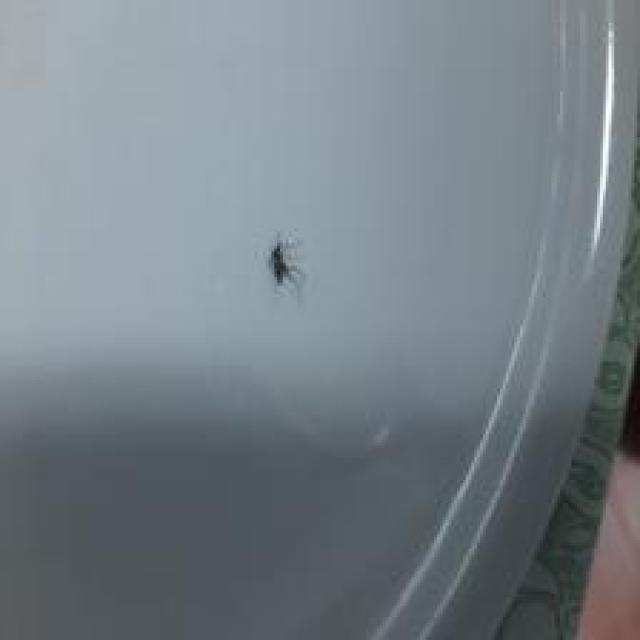Aedes albopictus: (266, 232, 303, 288)
